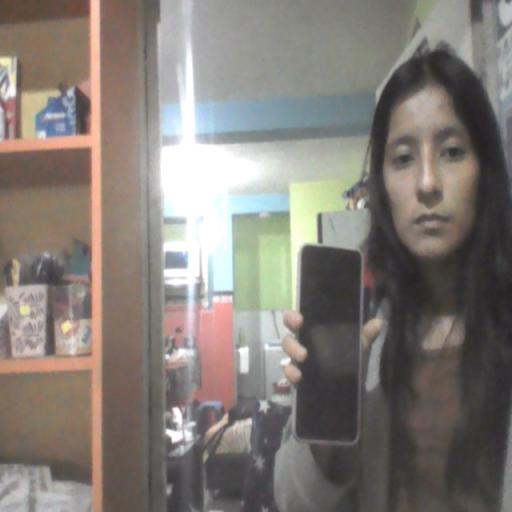phone: (289, 237, 371, 456)
